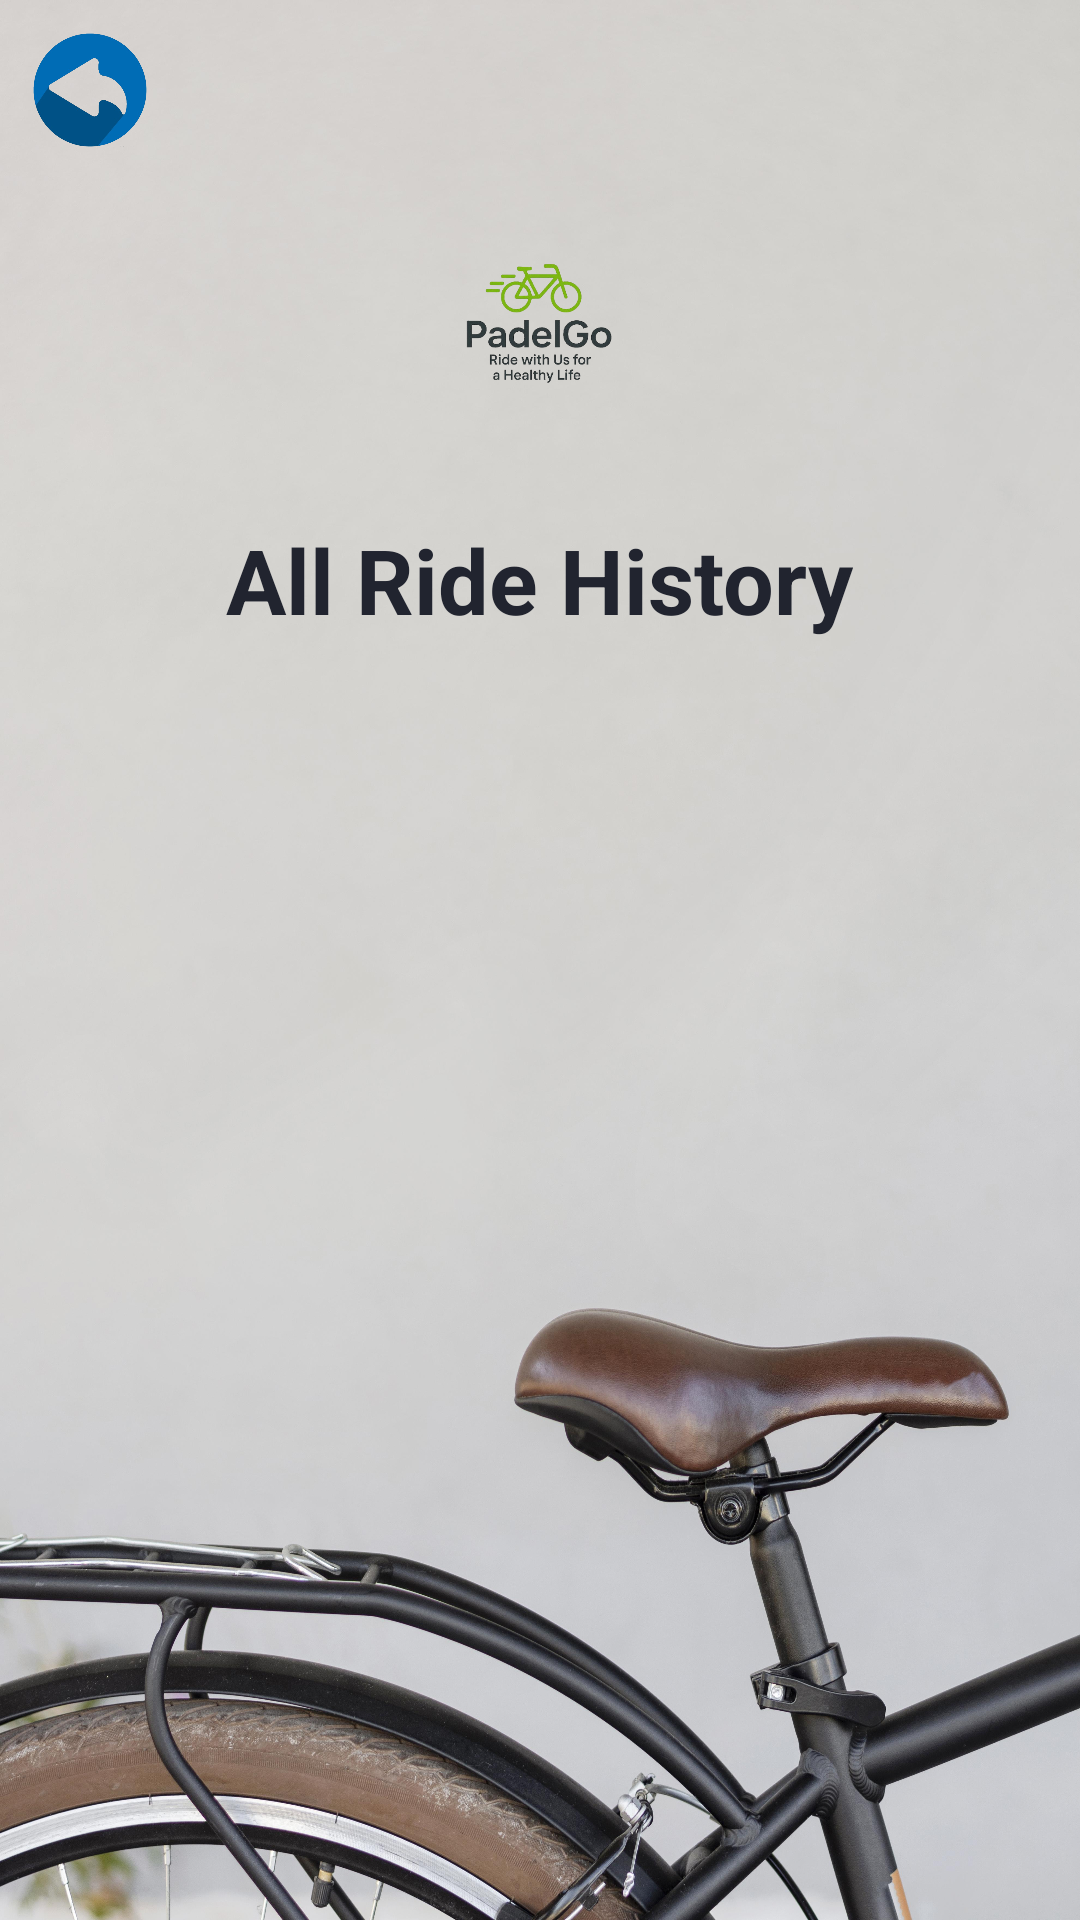

Icons on this 1080×1920 Android screen, each with its box as (x1, y1, x2, y2):
Back Button: (33, 33, 147, 147)
